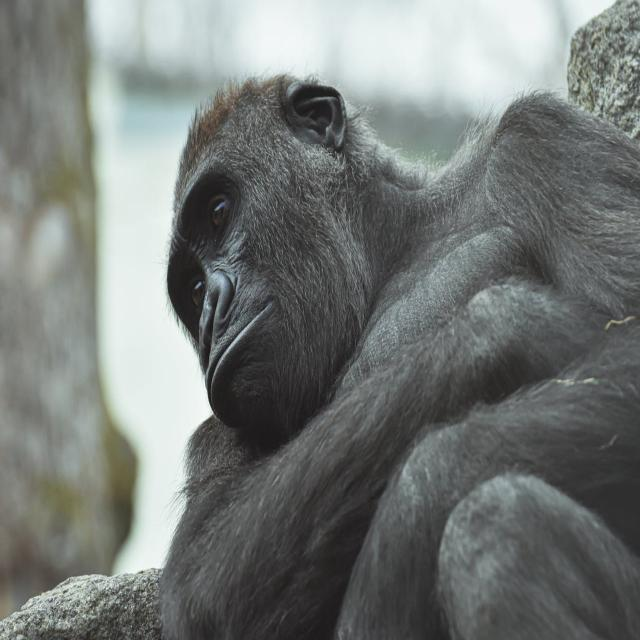Gorilla: (157, 75, 640, 640)
